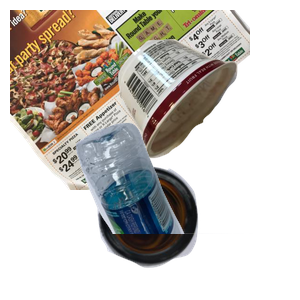glass: (95, 164, 286, 300)
paper: (10, 10, 250, 190)
plastic: (73, 120, 300, 300)
trash: (116, 36, 300, 187)
